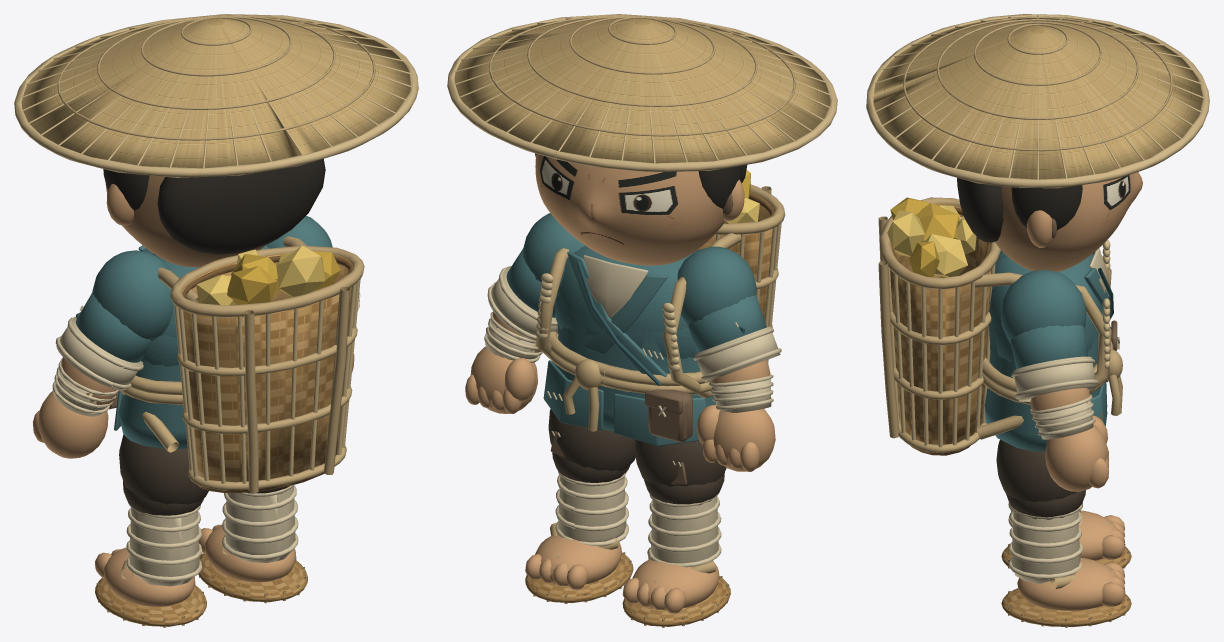
File: worker-angry-draft.glb
3 views of the same model, side by side, from view 1: azimuth 30°, elevation 25°; view 2: azimuth 150°, elevation 25°; view 3: azimuth 270°, elevation 25° (orthographic). The views are drawn at different scales.
Visible parts, largest first — view 1: Worker_Hat_Geometry, Worker_Basket_Geometry, Worker_Head_Geometry, Worker_Arm_L_Geometry, Worker_Leg_L_Geometry, Worker_Leg_R_Geometry, Worker_Body_Geometry, Worker_Gold_Cargo_Geometry, Worker_Arm_R_Geometry; view 2: Worker_Hat_Geometry, Worker_Body_Geometry, Worker_Head_Geometry, Worker_Arm_L_Geometry, Worker_Leg_L_Geometry, Worker_Leg_R_Geometry, Worker_Arm_R_Geometry, Worker_Basket_Geometry, Worker_Gold_Cargo_Geometry; view 3: Worker_Hat_Geometry, Worker_Basket_Geometry, Worker_Arm_R_Geometry, Worker_Leg_R_Geometry, Worker_Head_Geometry, Worker_Body_Geometry, Worker_Gold_Cargo_Geometry, Worker_Leg_L_Geometry.
Part boxes in pixels (x1,y1,x2,y2): Worker_Hat_Geometry: (14, 14, 418, 177); Worker_Basket_Geometry: (120, 236, 364, 493); Worker_Head_Geometry: (103, 159, 325, 267); Worker_Arm_L_Geometry: (32, 250, 173, 458); Worker_Leg_L_Geometry: (95, 434, 208, 627); Worker_Leg_R_Geometry: (198, 485, 307, 603); Worker_Body_Geometry: (109, 245, 268, 448); Worker_Gold_Cargo_Geometry: (196, 245, 340, 305); Worker_Arm_R_Geometry: (266, 216, 360, 372); Worker_Hat_Geometry: (447, 14, 837, 172); Worker_Body_Geometry: (543, 245, 715, 446); Worker_Head_Geometry: (535, 153, 747, 265); Worker_Arm_L_Geometry: (677, 246, 781, 471); Worker_Leg_L_Geometry: (622, 439, 730, 627); Worker_Leg_R_Geometry: (525, 409, 635, 603); Worker_Arm_R_Geometry: (465, 213, 584, 413); Worker_Basket_Geometry: (535, 184, 785, 398); Worker_Gold_Cargo_Geometry: (724, 170, 759, 223); Worker_Hat_Geometry: (866, 14, 1209, 188); Worker_Basket_Geometry: (878, 197, 1111, 455); Worker_Arm_R_Geometry: (1000, 269, 1109, 491); Worker_Leg_R_Geometry: (996, 439, 1131, 627); Worker_Head_Geometry: (957, 172, 1142, 271); Worker_Body_Geometry: (982, 248, 1122, 451); Worker_Gold_Cargo_Geometry: (887, 197, 976, 277); Worker_Leg_L_Geometry: (1001, 502, 1131, 568).
Bounding box in the file's own units: 1.94 × 3 × 1.67.
16 materials, 6 textured.
